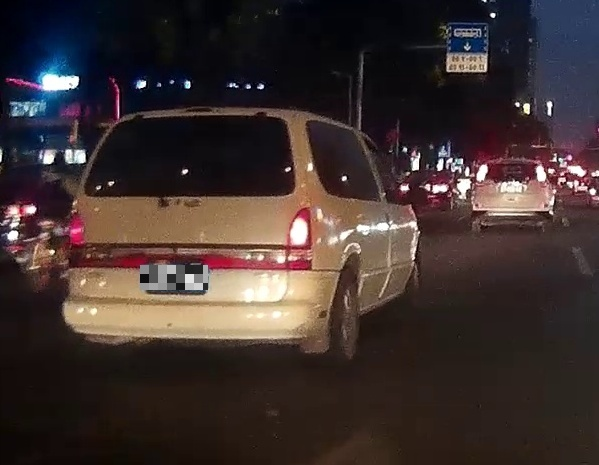L_light: (66, 212, 86, 268), (475, 165, 487, 186)
R_light: (285, 206, 310, 270), (536, 165, 547, 187)
T_light: (182, 115, 213, 123), (506, 163, 519, 166)
night-no: (471, 158, 548, 231)
night-right: (61, 106, 312, 363)
plate_1: (140, 265, 208, 290)
